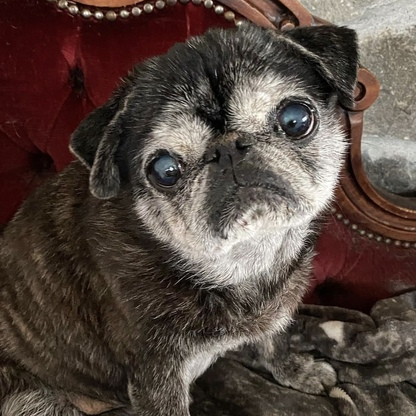Pug: (1, 15, 366, 416)
